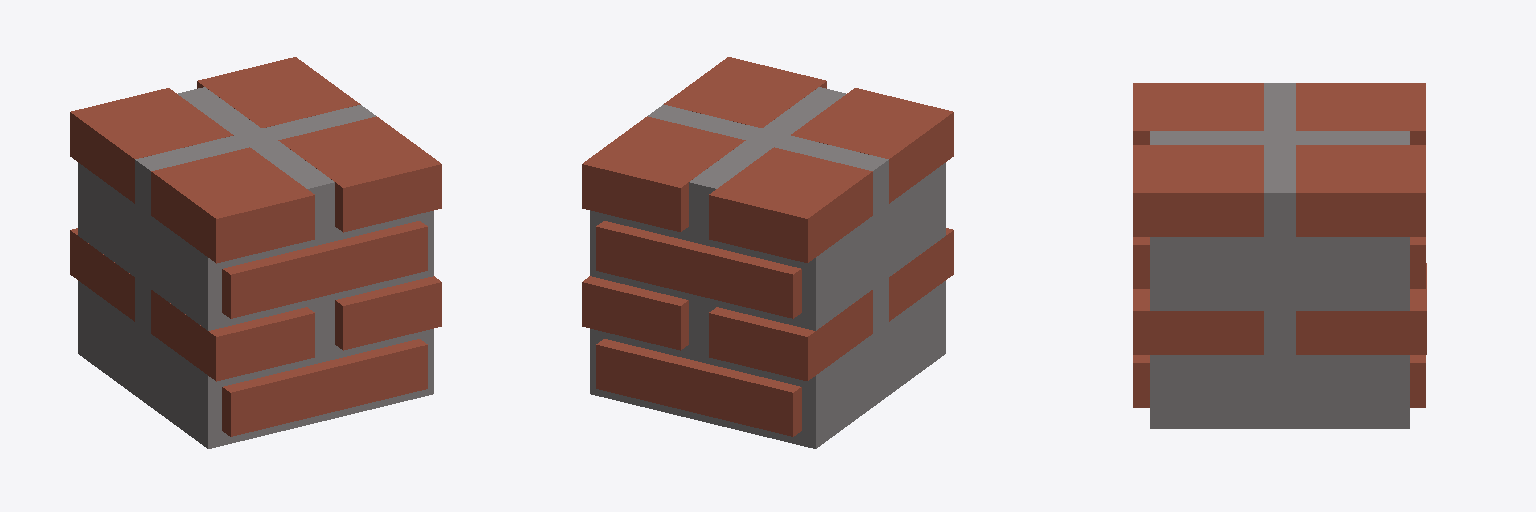
3 views of the same model, side by side, from view 1: azimuth 30°, elevation 25°; view 2: azimuth 150°, elevation 25°; view 3: azimuth 270°, elevation 25° (orthographic).
Parts seen in each view (by area): view 1: cube; view 2: cube; view 3: cube.
Part boxes in pixels (left/top/right/bottom): cube: left=70, top=57, right=441, bottom=448; cube: left=582, top=57, right=953, bottom=448; cube: left=1133, top=83, right=1426, bottom=428.
Size of the model in its own units: 1 by 1 by 1.13.
1 materials, 1 textured.